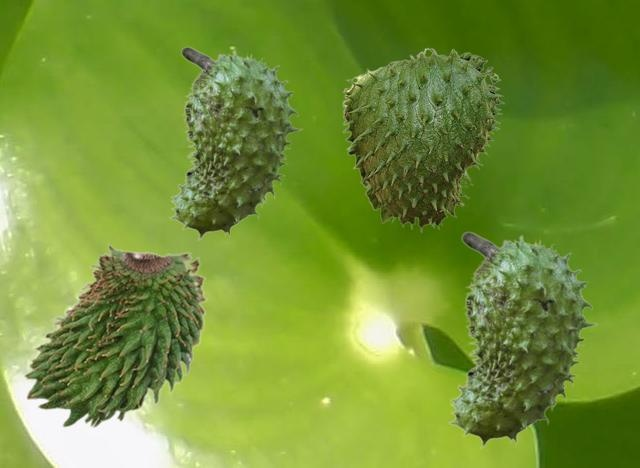guyabano: (22, 242, 207, 427), (447, 231, 597, 448), (342, 47, 504, 232), (168, 46, 302, 240)
